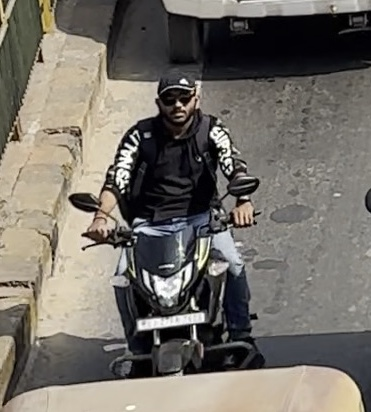BikeWithRider: (61, 61, 274, 386)
NoHelmet: (143, 63, 211, 138)
